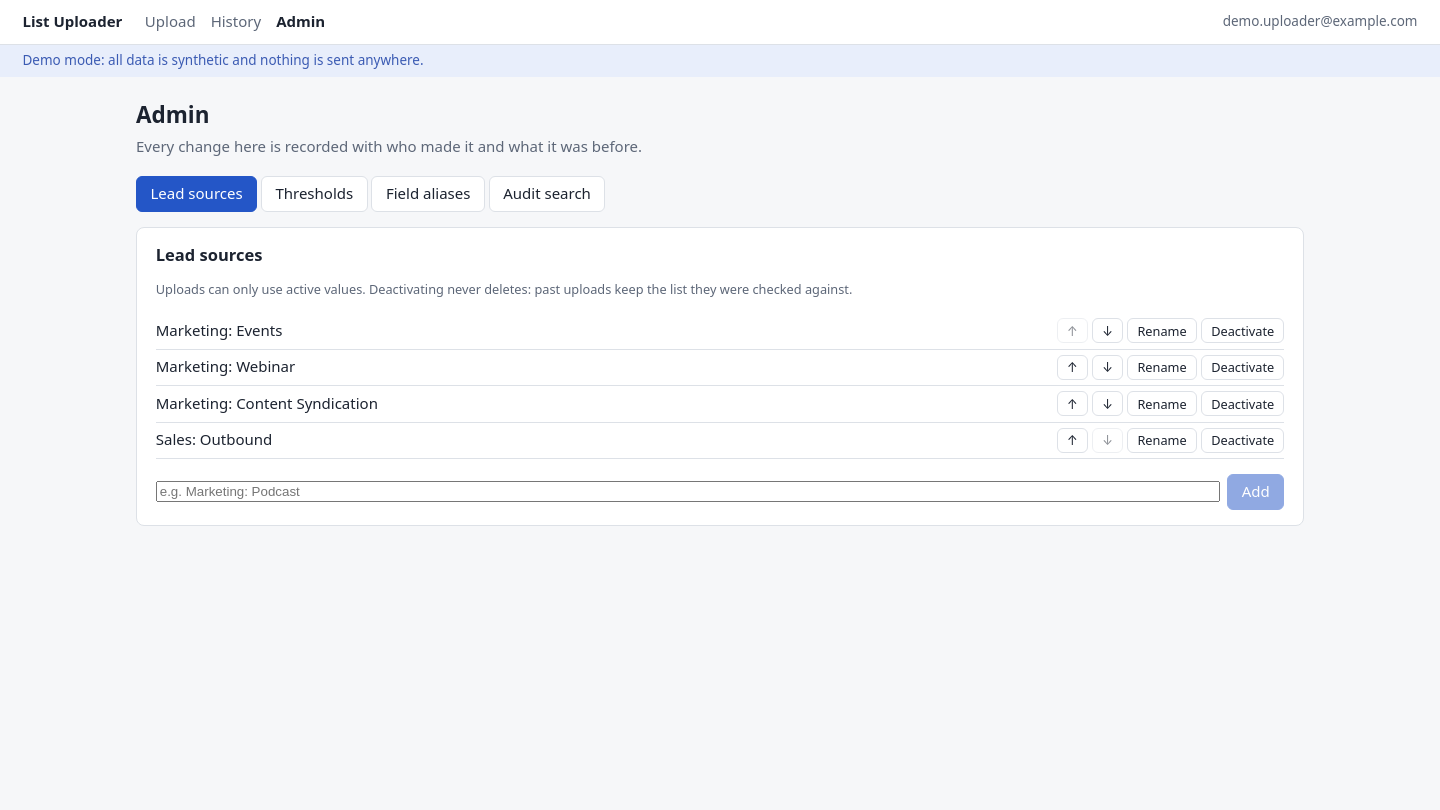
admin › edits thresholds and rejects a block below the flag
The image size is (1440, 810).
Click the tab "Thresholds": [314, 194] box [261,176,368,212]
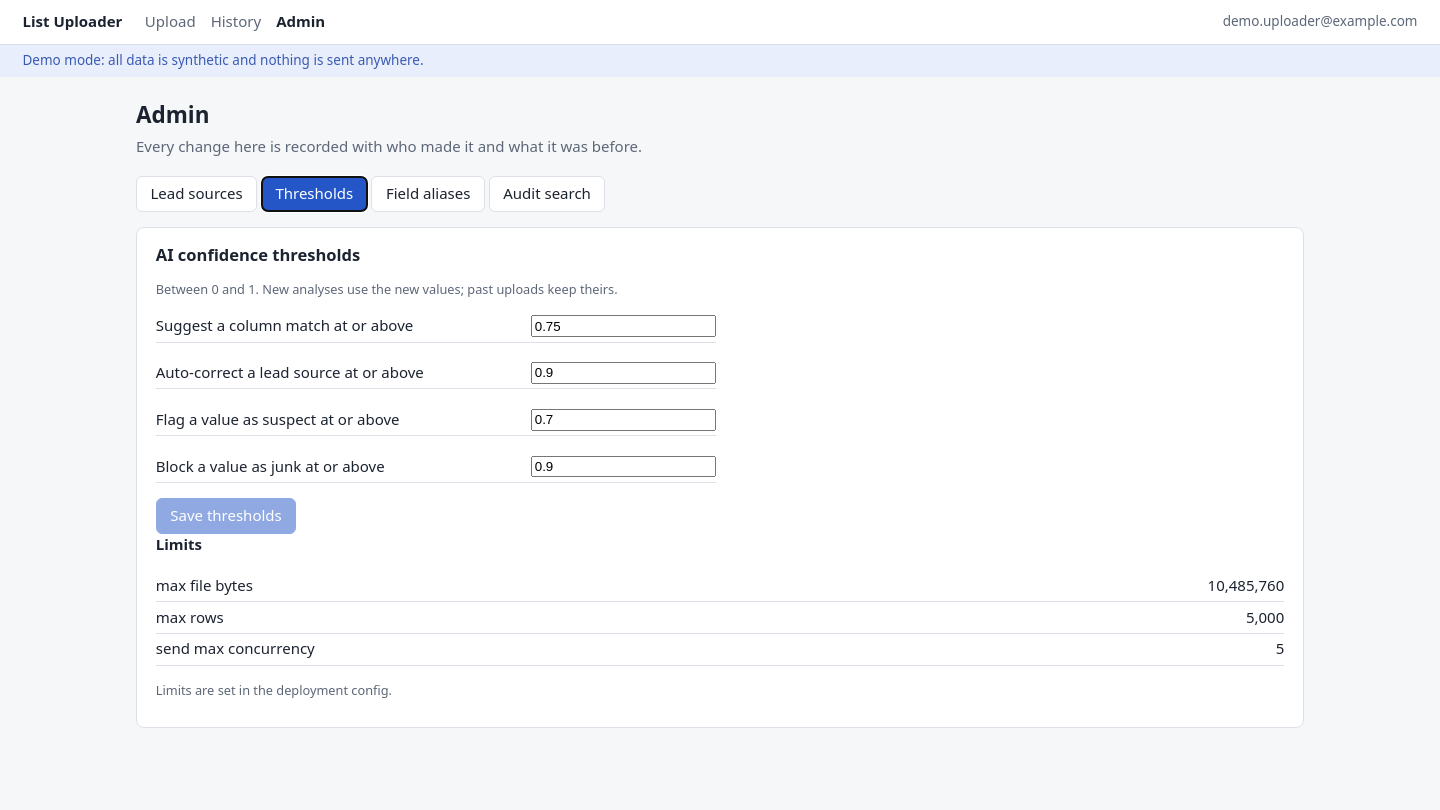
Replace the text in the number field labelled "Block a value as junk at or above" with "0.5": [623, 466] box [531,456,716,477]
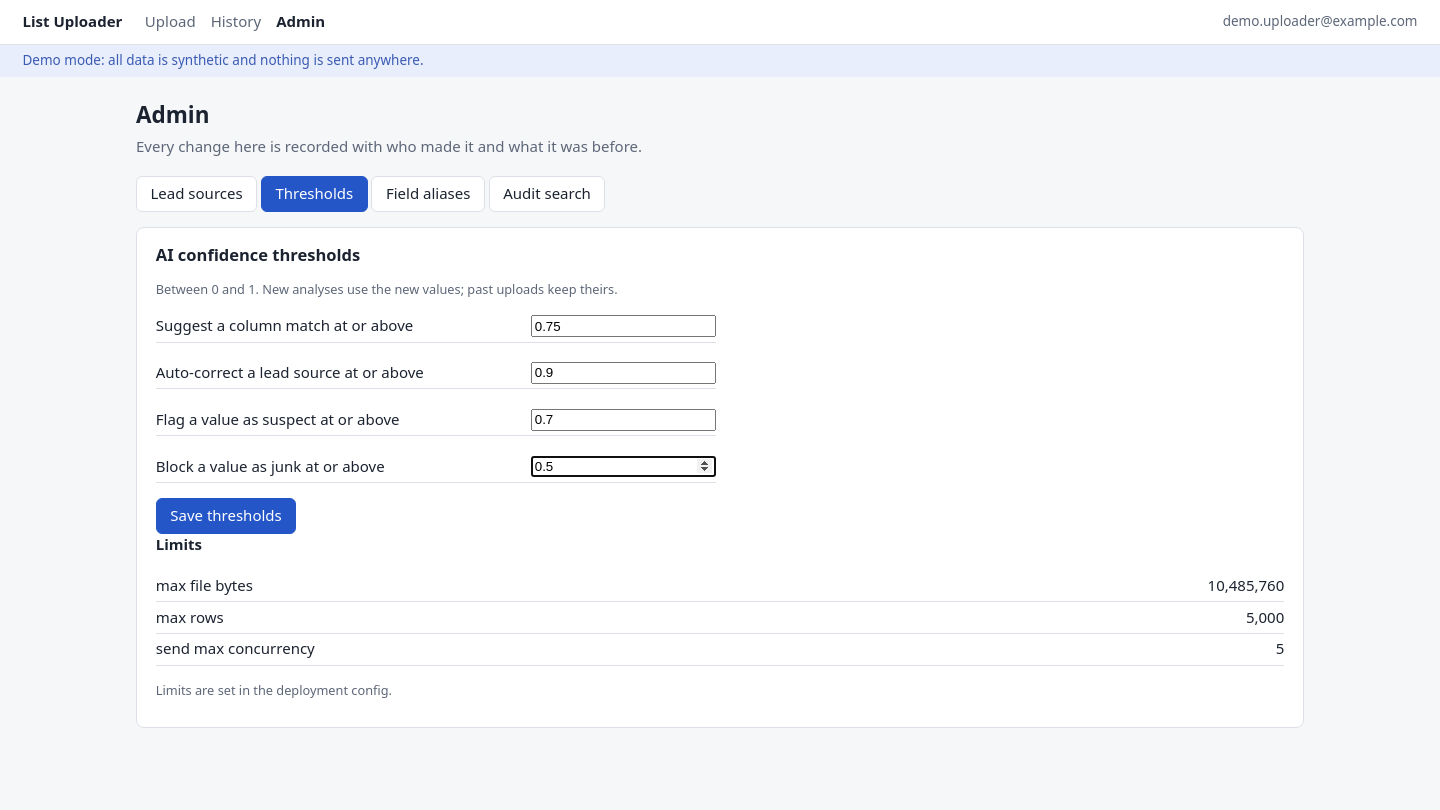
Click the button "Save thresholds": [226, 516] box [156,498,296,534]
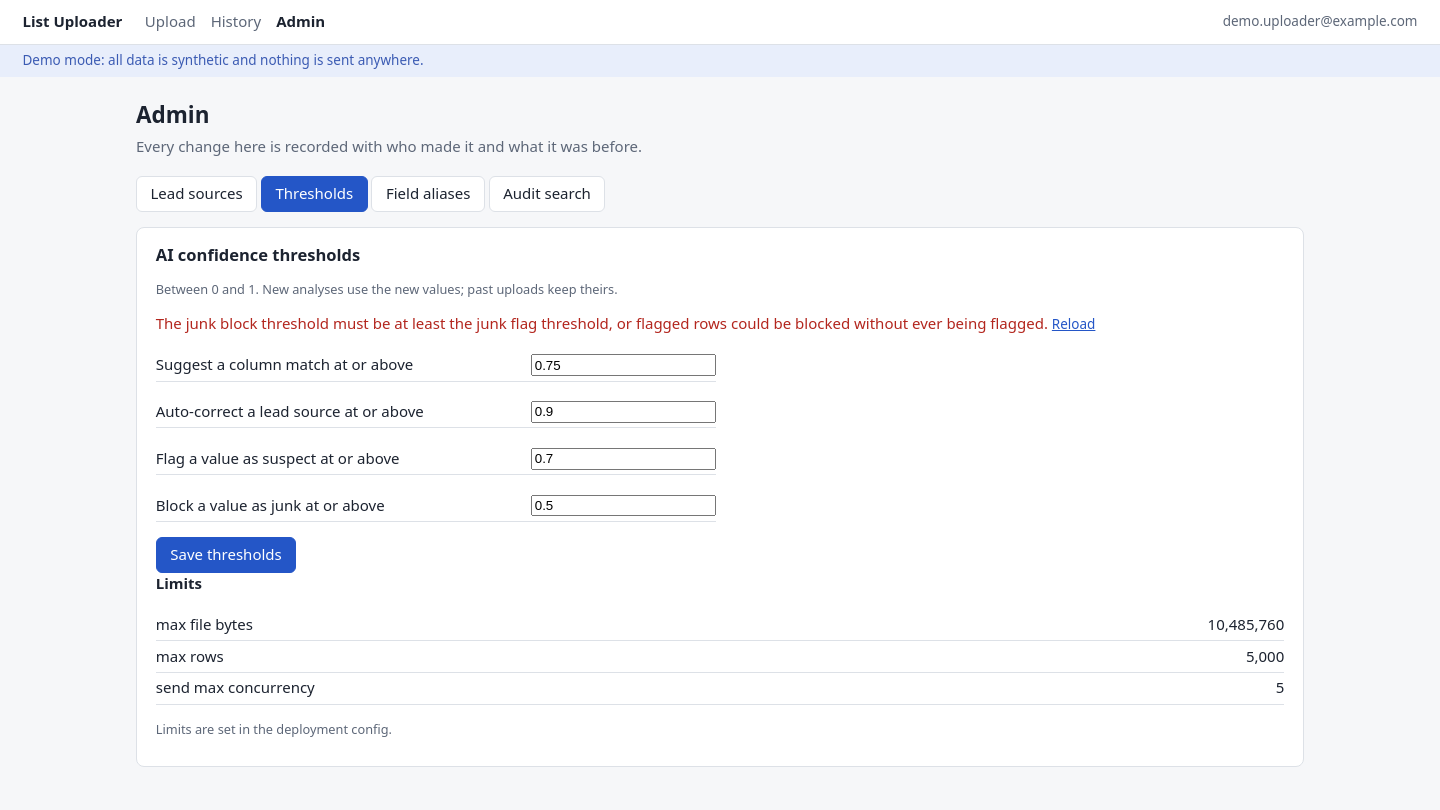
Expected: the message shows "at least the junk flag threshold", [156,313,1048,333]
Replace the text in the number field labelled "Block a value as junk at or above" with "0.95": [623, 506] box [531,495,716,516]
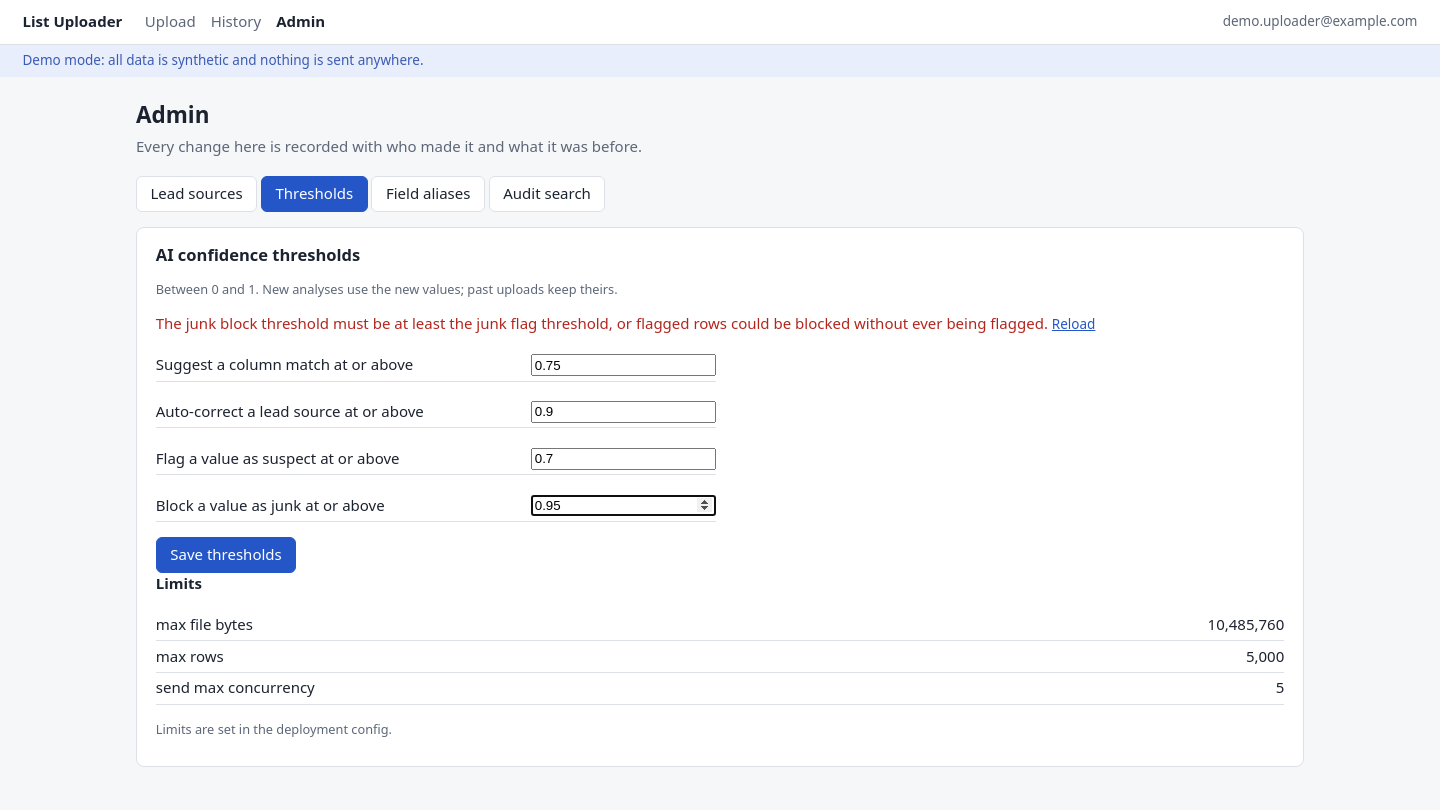
Click the button "Save thresholds": [226, 555] box [156,537,296,573]
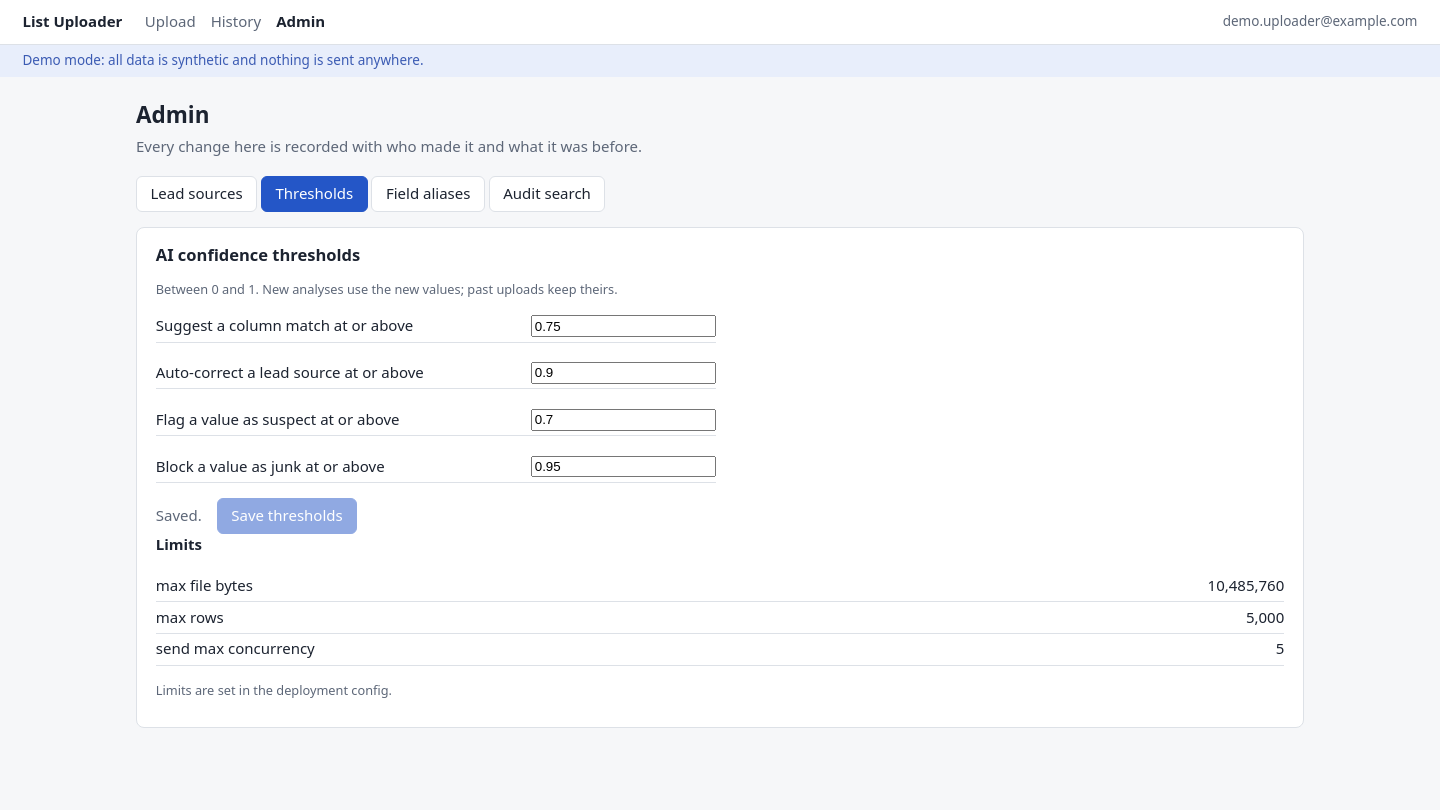
Expected: the message reads "Saved.", [156,505,202,525]
